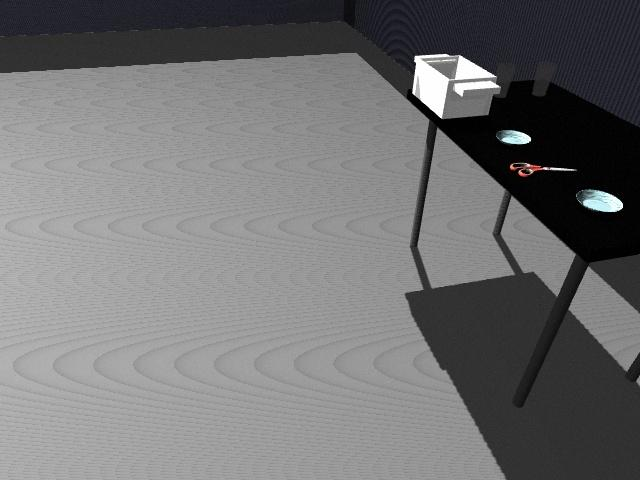cup: (532, 60, 557, 97), (492, 62, 516, 99)
plate: (573, 188, 625, 213), (496, 129, 531, 144)
scissors: (511, 162, 575, 178), (510, 162, 542, 171)
